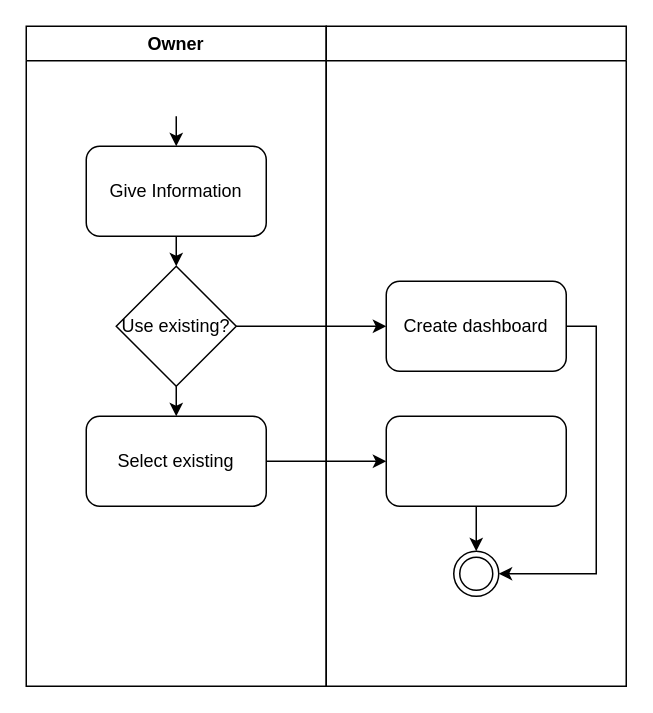
Image size: 653x713. Some labels were removed from this diagram. The shapes that lost their labels are listed below. From the top down, each one's box as (x1, y1, x2, y2) in pixels, then its label:
(325, 25, 626, 686): System
(385, 415, 566, 506): Update dashboard
